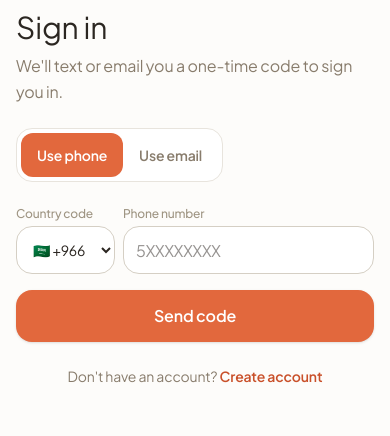
Scenario: LoginPage — edge cases (T-052) › shows API error message when the request fails
Select "🇸🇦 +966" in the dropdown labelled "Country code" at {"x": 66, "y": 250}, box [16,226,115,274]
Type "500000000" into the field labelled "Phone number".
click(248, 250); type("500000000")  # box [123,226,374,274]
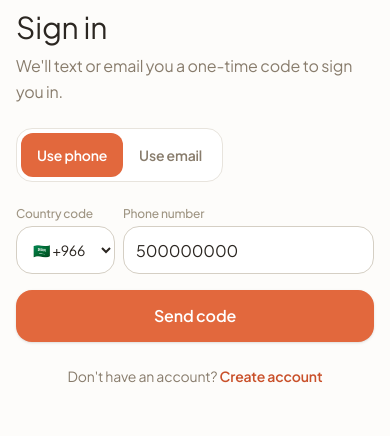
Click the button "Send code".
click(195, 316)  # box [16,290,374,342]
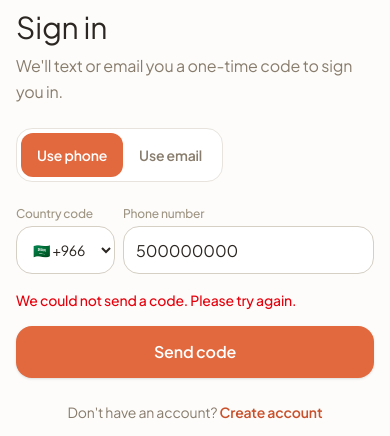
Result: the message "We could not send a code. Please try again." is shown at [16,291,296,309]
